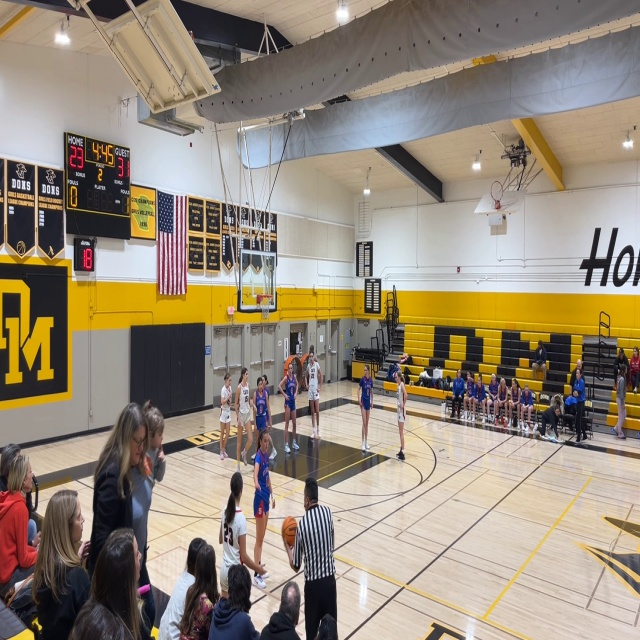Basketball: (282, 516, 298, 546)
